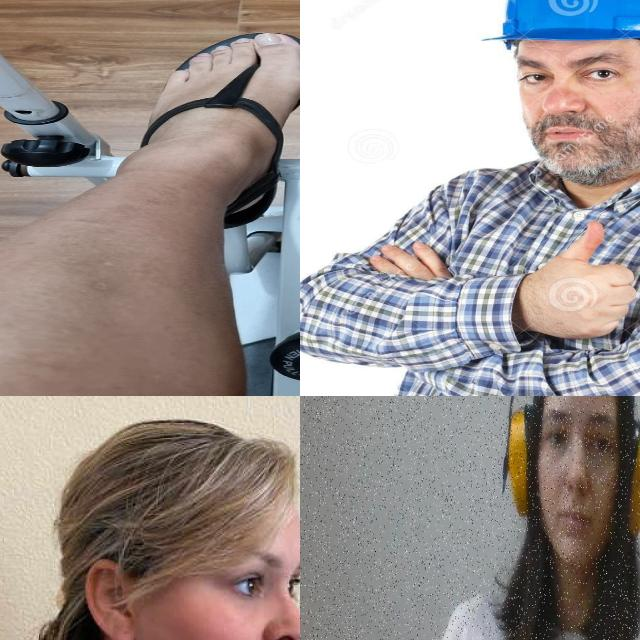Ear-protection: (494, 396, 640, 583)
No_Ear-Protection: (502, 0, 640, 176), (85, 555, 137, 640)
No_Glasses: (205, 533, 300, 617)
Sandals: (125, 27, 300, 204)
